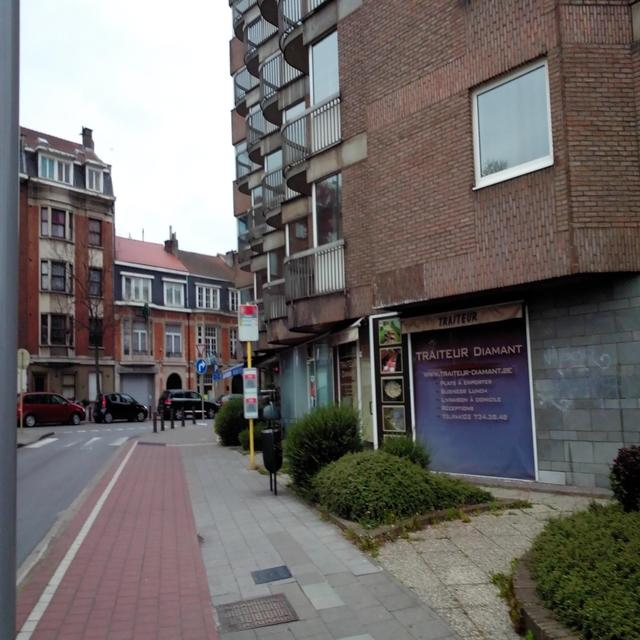Billboard: (372, 298, 535, 482), (207, 351, 216, 365), (309, 376, 314, 396)
Car: (92, 388, 242, 423), (17, 392, 85, 427)
Manhole: (215, 565, 298, 634), (137, 441, 164, 446)
Trash Can: (261, 401, 282, 495)
Vegetation: (253, 381, 532, 557), (525, 444, 639, 639), (491, 557, 533, 639)
